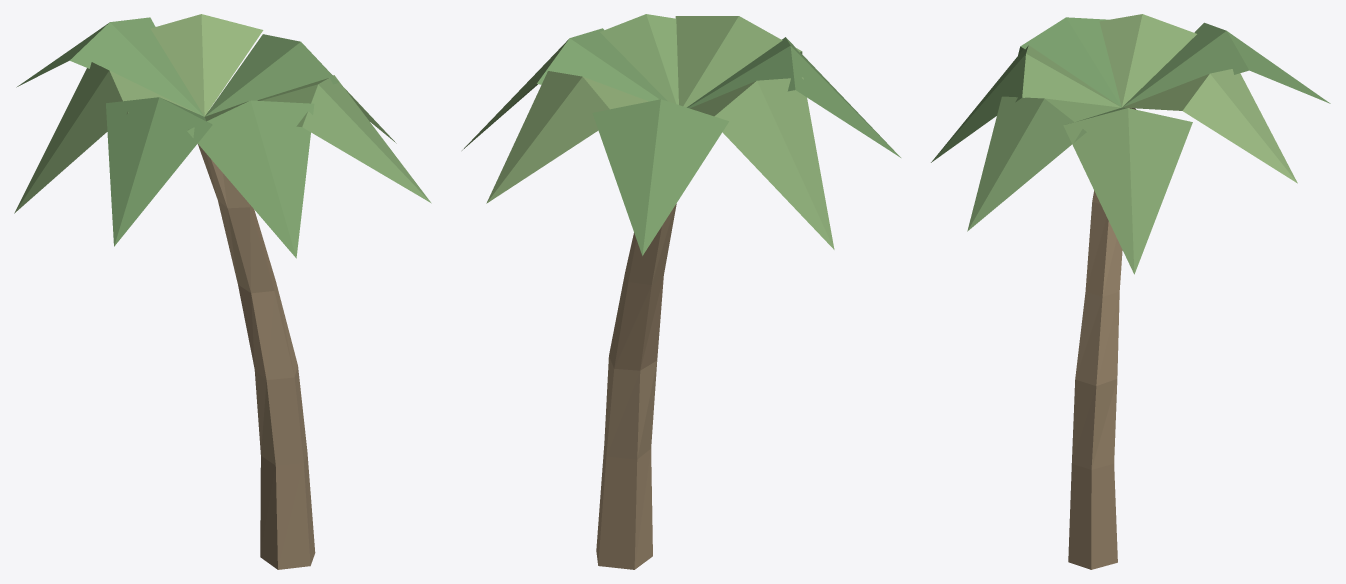
The model's file is desert-palm-0.glb.
3 views of the same model, side by side, from view 1: azimuth 30°, elevation 25°; view 2: azimuth 150°, elevation 25°; view 3: azimuth 270°, elevation 25° (orthographic). The views are drawn at different scales.
Parts seen in each view (by area): view 1: desert-palm-0; view 2: desert-palm-0; view 3: desert-palm-0.
Part boxes in pixels (<box>): desert-palm-0: <box>14,14,431,569</box>; desert-palm-0: <box>462,14,900,569</box>; desert-palm-0: <box>931,14,1330,569</box>.
Size of the model in its own units: 1.37 by 1.82 by 1.38.
